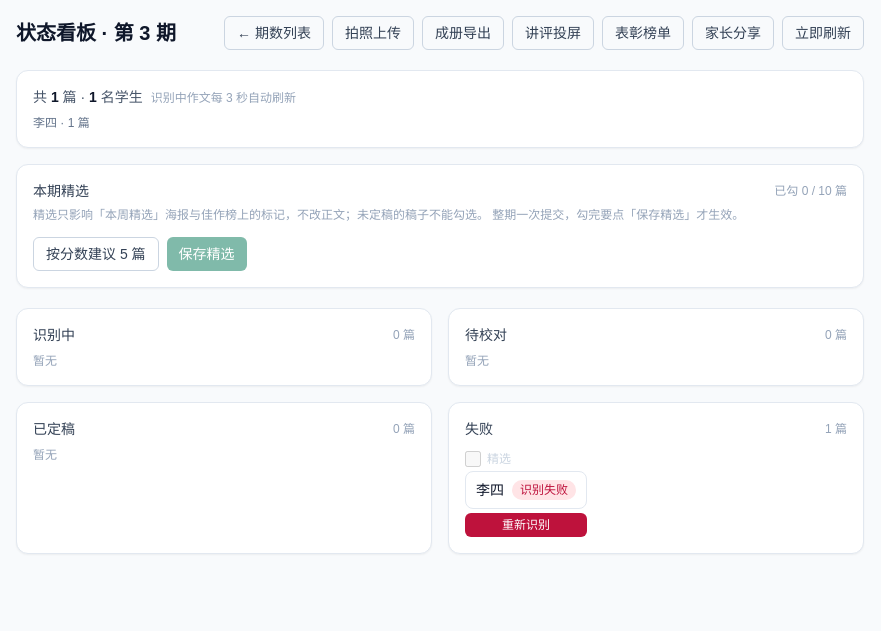
Test: EssayListPage › keeps the retry entry and shows the message when the rerun is rejected
Click the button with test id "board-retry-2" at x=526, y=525, box [465,513,587,537]
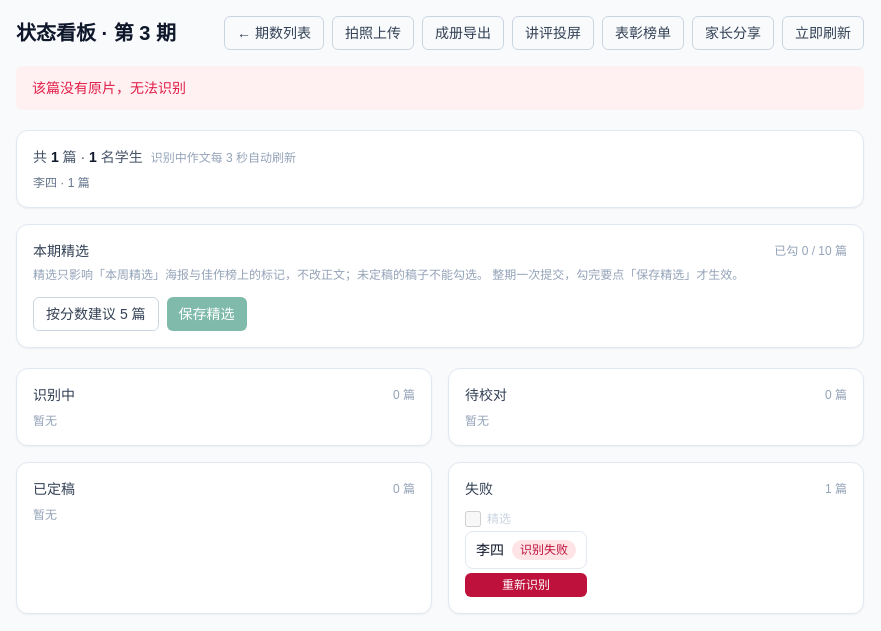
Check: the button with test id "board-retry-2" is shown, box [465,573,587,597]
Check: the text "该篇没有原片，无法识别" is shown, box [16,66,864,110]
